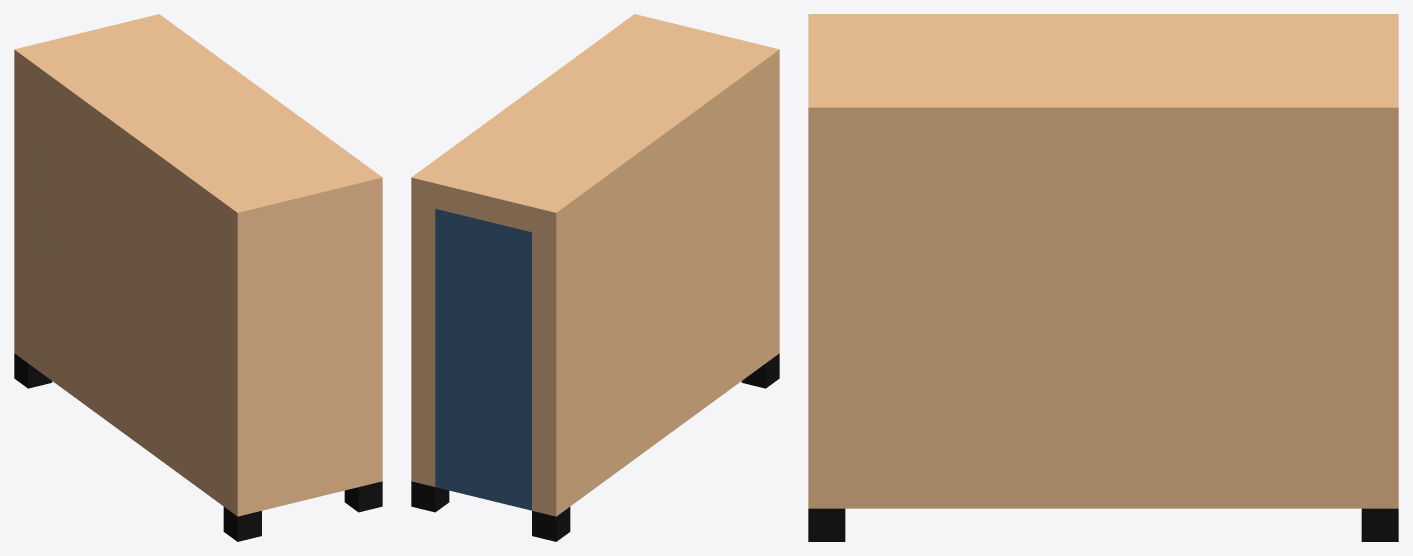
Rendered from 4er-tisch-verl-104-qubo.obj.
The picture shows the model from 3 angles, left to right: view 1: azimuth 30°, elevation 25°; view 2: azimuth 150°, elevation 25°; view 3: azimuth 270°, elevation 25°; orthographic projection. The views are drawn at different scales.
Parts seen in each view (by area): view 1: qubo; view 2: qubo; view 3: qubo.
Boxes of the visible parts, <box> form: qubo: <box>14,14,382,541</box>; qubo: <box>411,14,779,541</box>; qubo: <box>808,14,1398,541</box>.
Size of the model in its own units: 0.6 by 1.3 by 1.6.
1 material, 1 textured.
